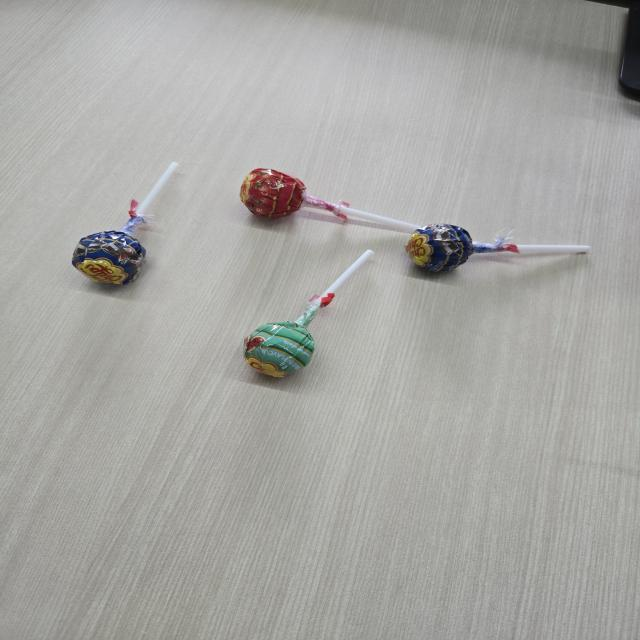lollipop: (239, 246, 376, 384), (67, 157, 187, 291), (237, 166, 445, 242), (404, 219, 596, 282)
